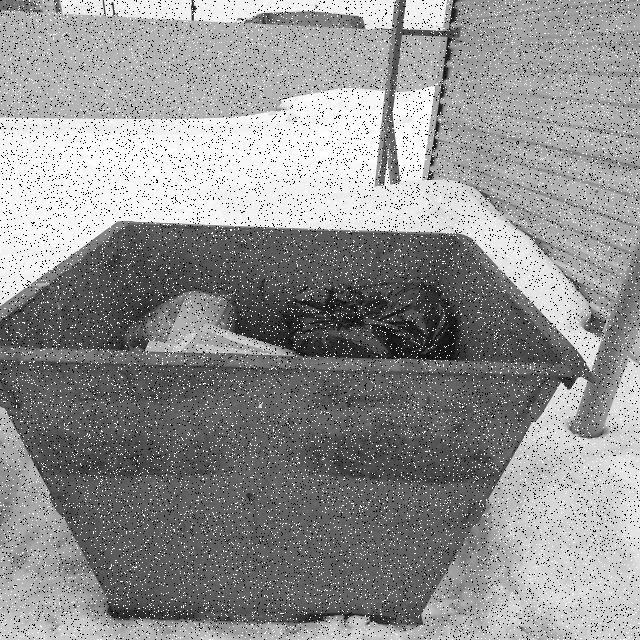Trashcan: (0, 197, 612, 640)
